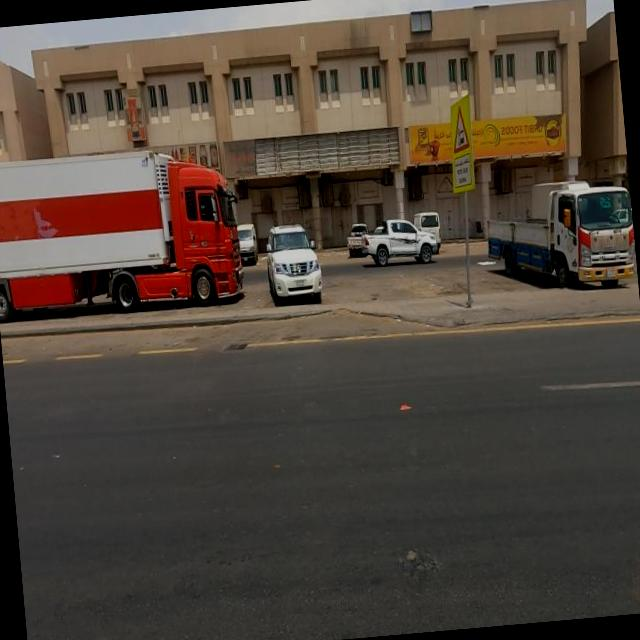debris: (171, 68, 481, 239), (382, 374, 436, 432), (452, 236, 522, 278)
